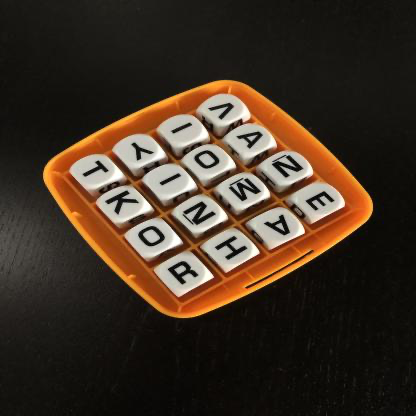a: (254, 208, 301, 243), (228, 124, 272, 154)
e: (299, 185, 342, 216)
h: (208, 232, 254, 265)
i: (162, 116, 204, 146), (149, 165, 190, 195)
k: (103, 187, 146, 217)
m: (221, 174, 265, 206)
n: (177, 196, 223, 229), (265, 154, 308, 184)
o: (131, 220, 176, 252), (191, 147, 228, 173)
r: (162, 255, 208, 289)
t: (74, 155, 116, 185)
v: (205, 95, 245, 123)
y: (118, 135, 162, 163)
